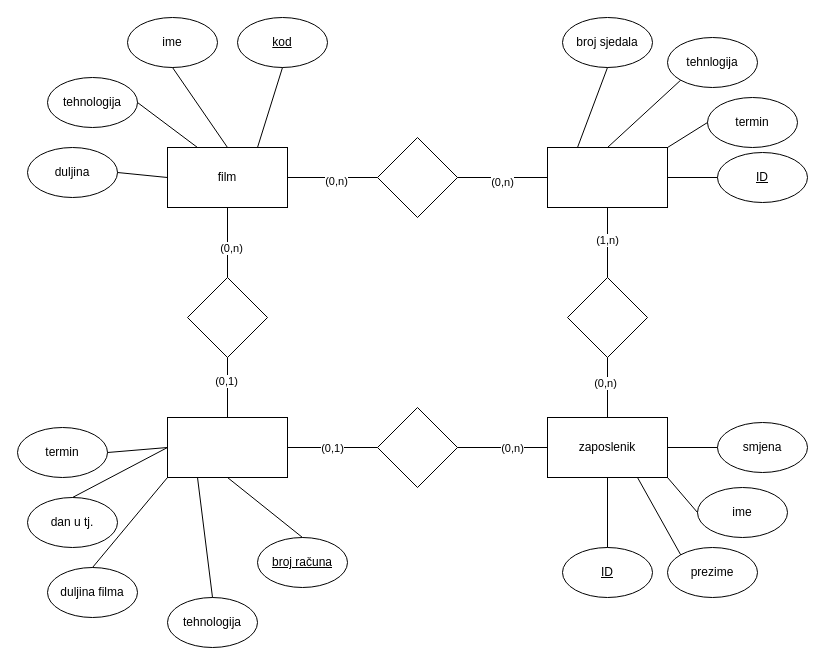
This 825x665 diagram has some shape labels left out. The centre of each missing label's shape, as x and y in pixels:
"dvorana" goes at [607,177].
"izdaje" goes at [417,447].
"radi u" goes at [607,317].
"se prikazuje u" goes at [417,177].
"ulaznica" goes at [227,447].
"za" goes at [227,317].
